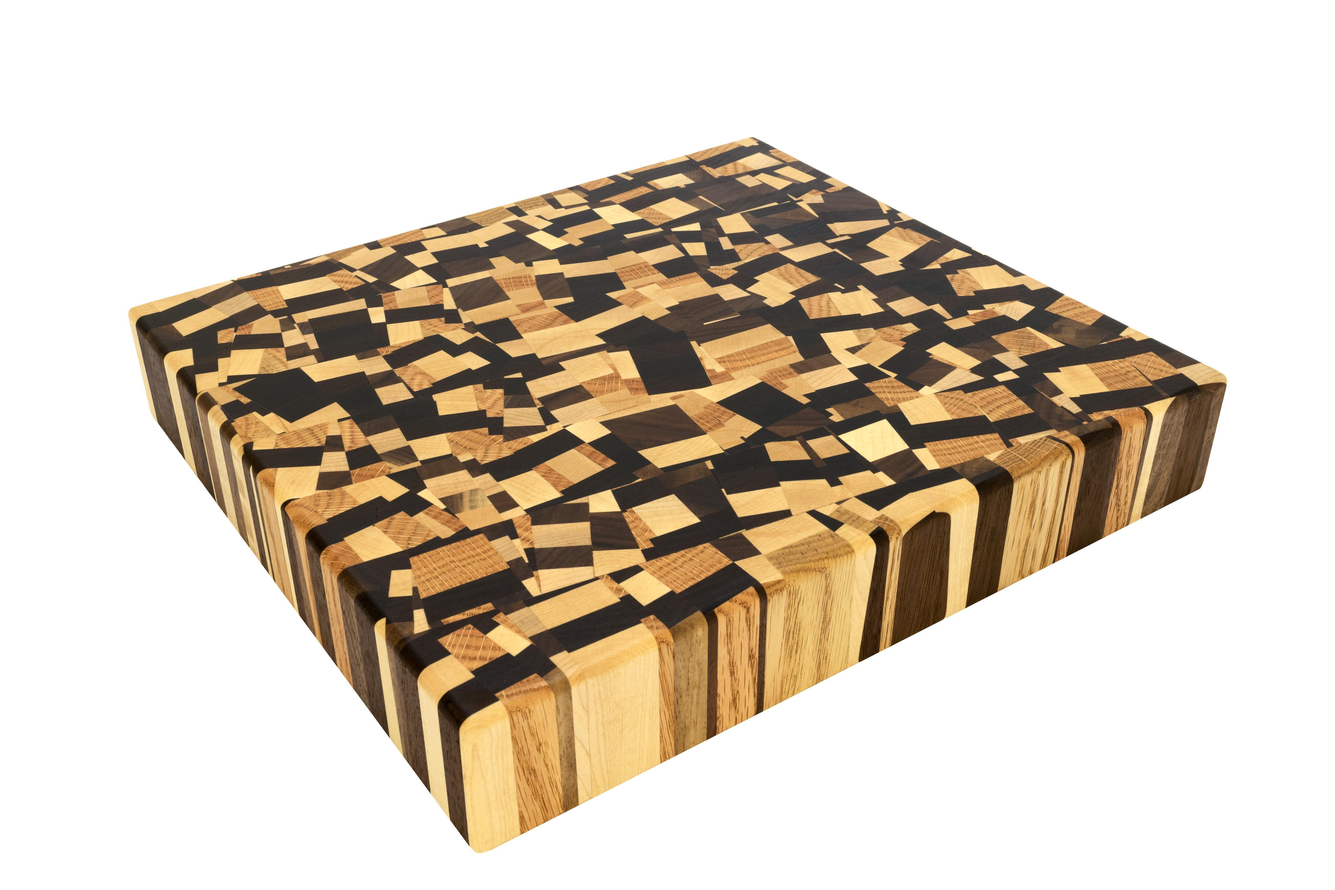gloved_hand: (118, 120, 1244, 863)
